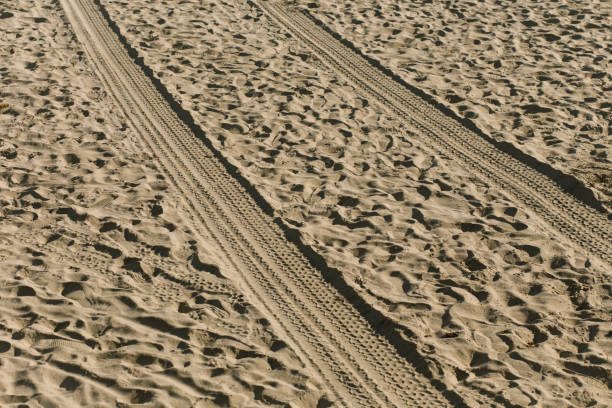vehicle_track: (61, 0, 448, 406), (253, 0, 611, 263)
